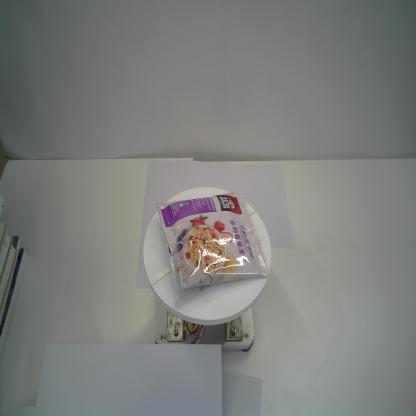Instant Drink: (155, 190, 270, 298)
